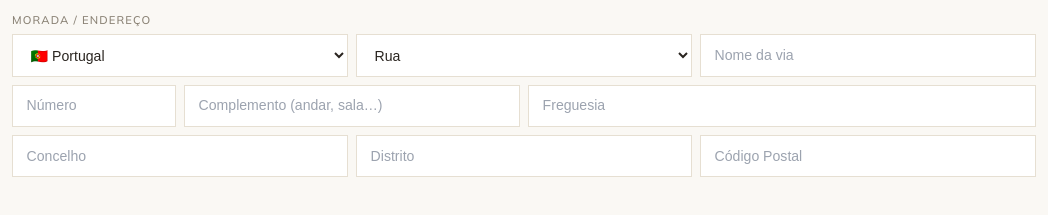
it: AddressEditor › escrever o nome da via mostra a morada composta numa linha
Type "das Flores" into the field with placeholder "Nome da via" at (868,56), box x1=700 y1=34 x2=1036 y2=77
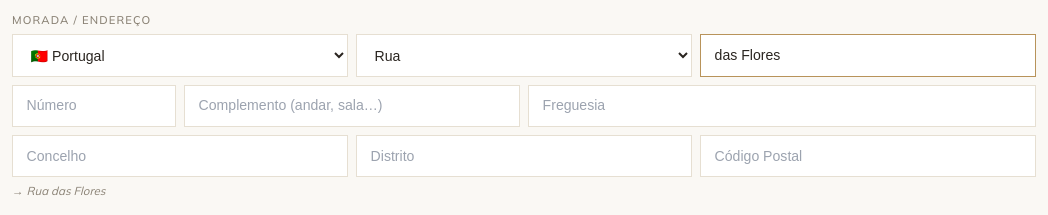
Expected: the text "→ Rua das Flores" is shown, x1=12 y1=183 x2=106 y2=198
